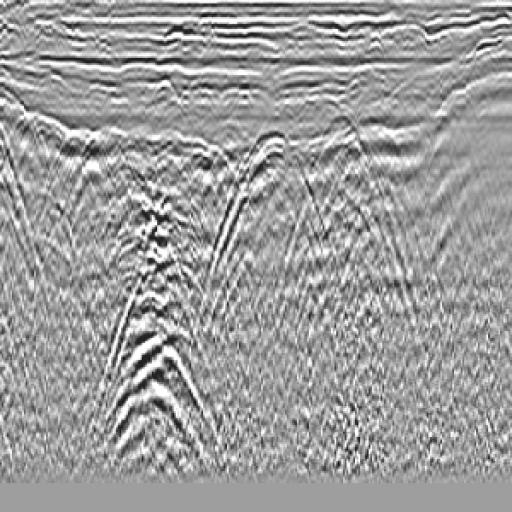metalic: (206, 97, 339, 315)
